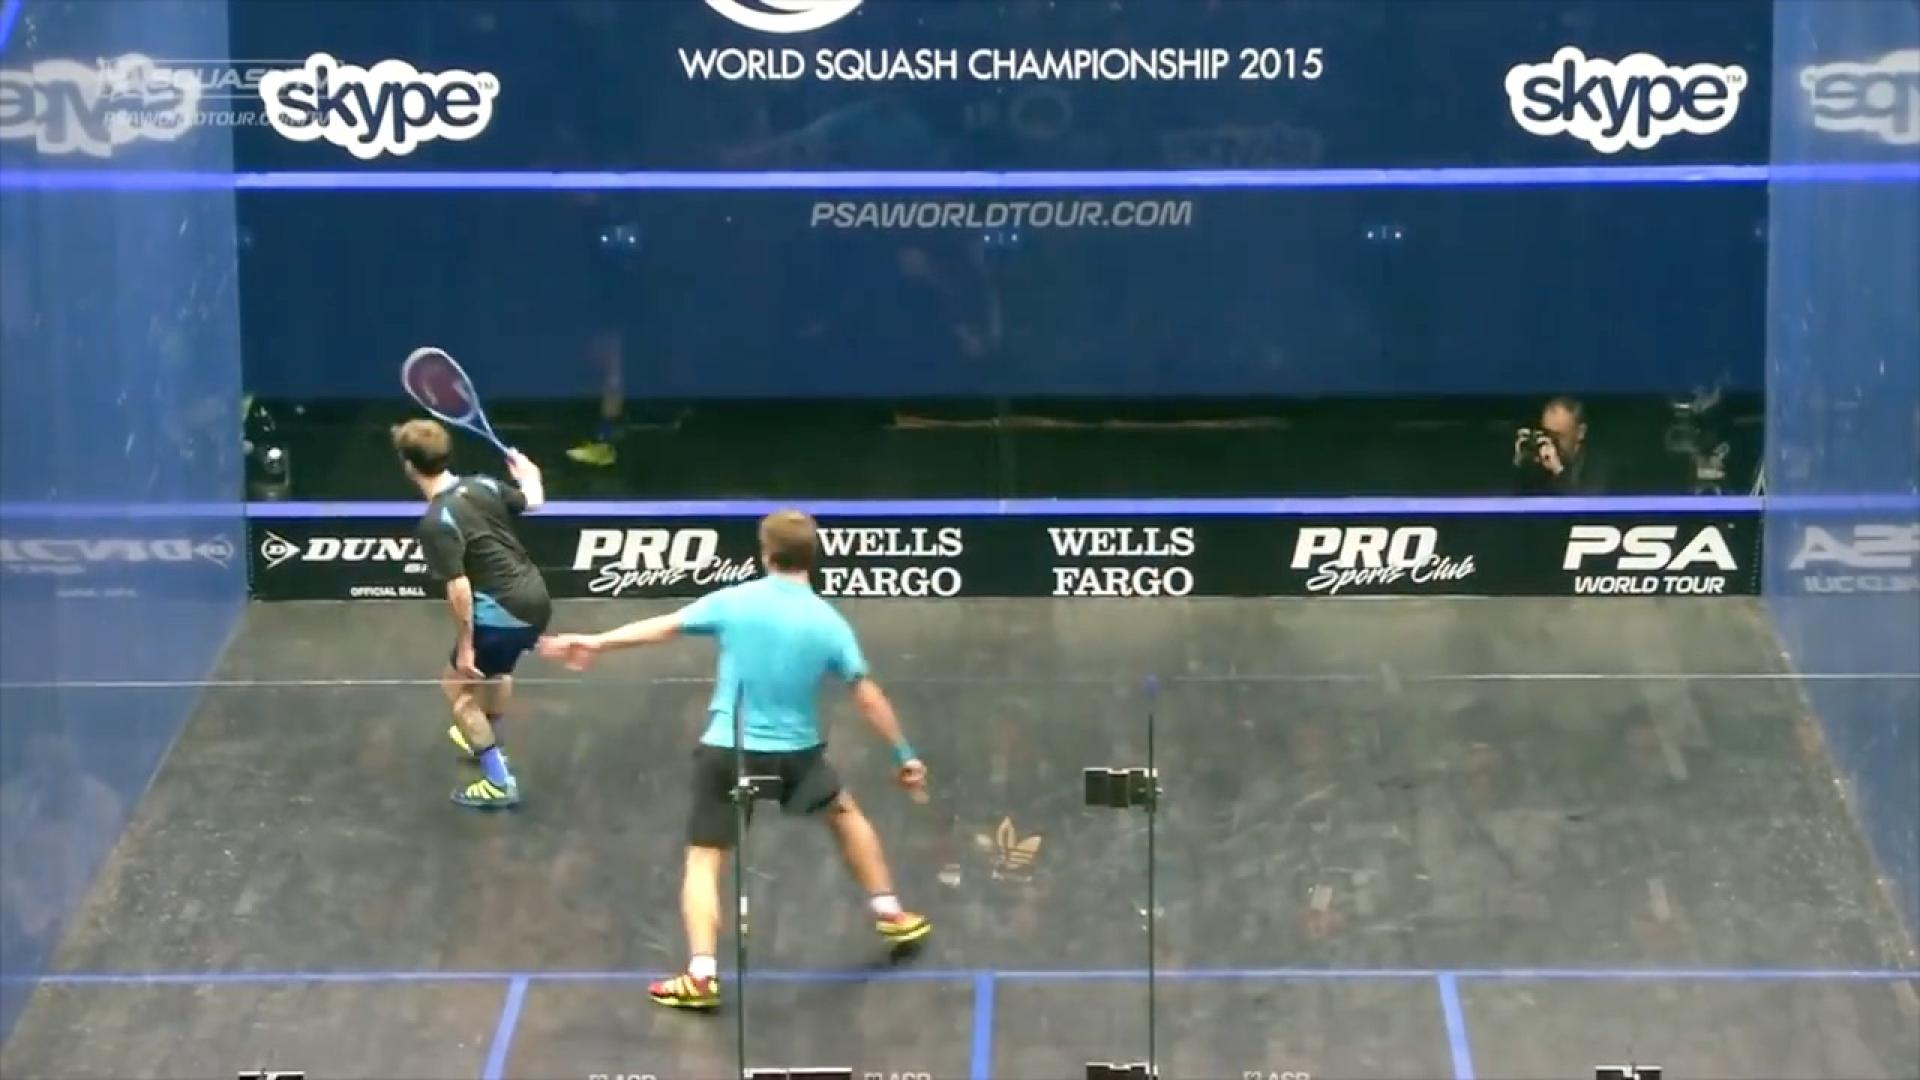Squash-Ball: (245, 425, 305, 477)
